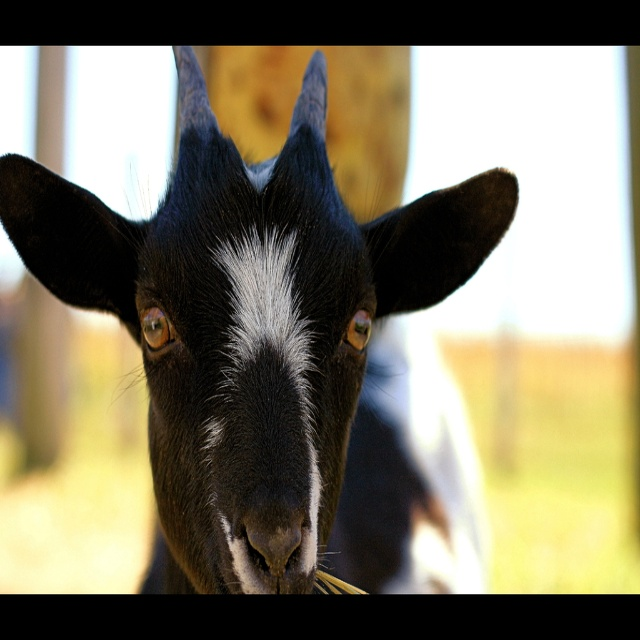Goat: (25, 58, 512, 603)
